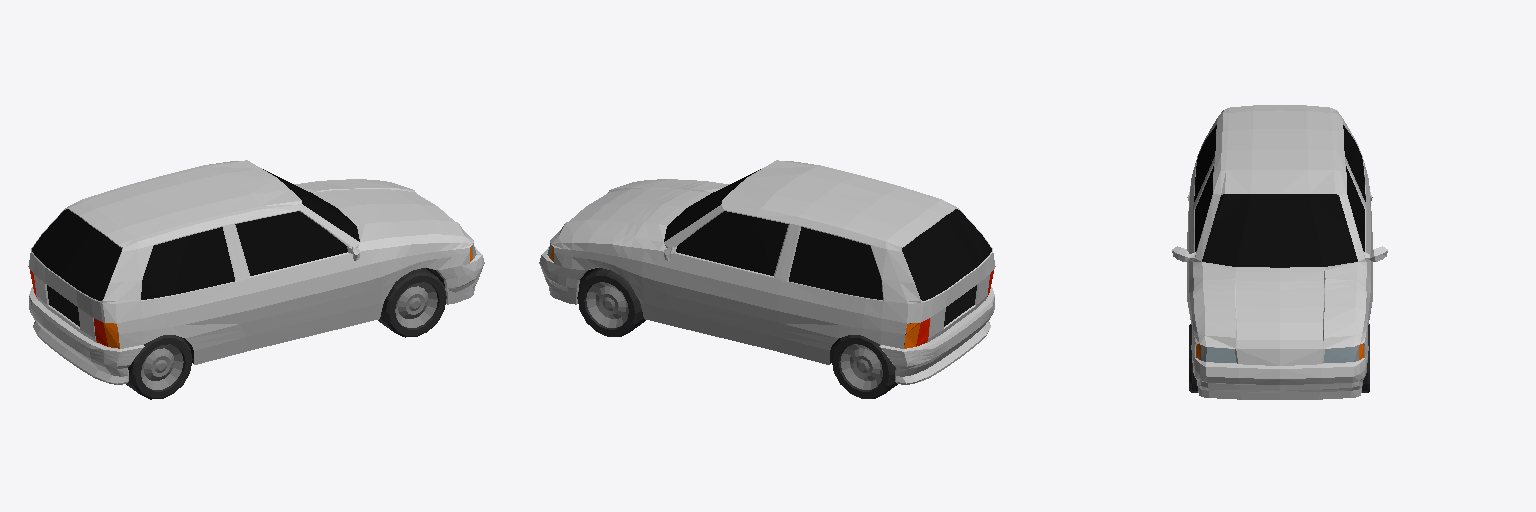
The picture shows the model from 3 angles: view 1: azimuth 30°, elevation 25°; view 2: azimuth 150°, elevation 25°; view 3: azimuth 270°, elevation 25°; orthographic projection.
Visible parts, largest first — view 1: base_Body_Plane.001; view 2: base_Body_Plane.001; view 3: base_Body_Plane.001.
Boxes of the visible parts, x1=… form: base_Body_Plane.001: x1=28, y1=160, x2=484, y2=399; base_Body_Plane.001: x1=539, y1=160, x2=995, y2=398; base_Body_Plane.001: x1=1172, y1=105, x2=1387, y2=399.
Size of the model in its own units: 4.83 by 1.8 by 2.29.